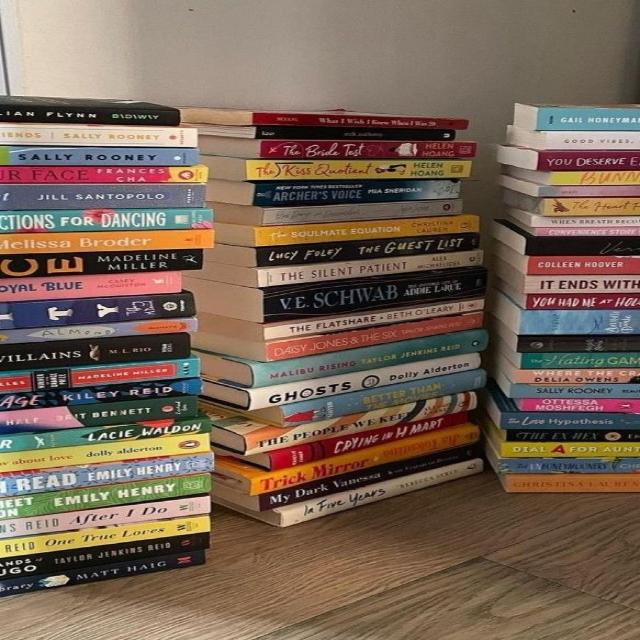book: (0, 453, 214, 499), (0, 357, 204, 396), (227, 180, 467, 208), (0, 315, 201, 347), (2, 207, 214, 234), (2, 186, 210, 212), (0, 165, 209, 185), (265, 260, 416, 286), (487, 391, 640, 415), (0, 148, 203, 166), (2, 128, 200, 145), (1, 236, 166, 252), (506, 129, 638, 149), (495, 181, 635, 199), (255, 228, 478, 239), (265, 224, 407, 241), (541, 156, 640, 167)
